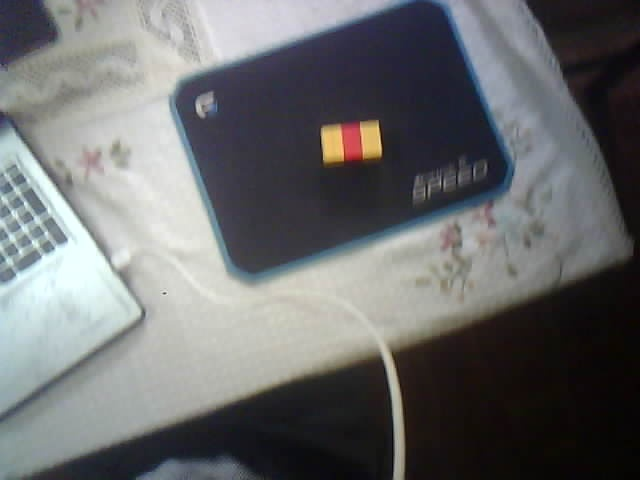lego: (318, 119, 383, 168)
